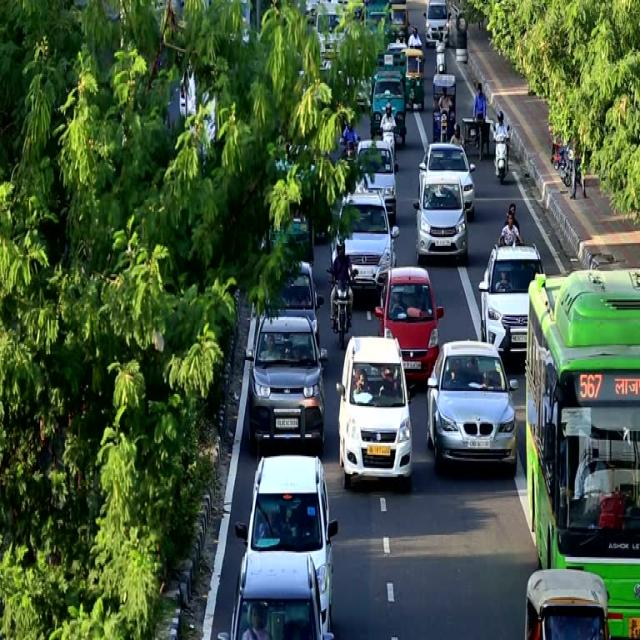Vehicles: (524, 253, 640, 640), (244, 449, 349, 640), (418, 329, 520, 492), (336, 330, 416, 507), (253, 307, 335, 462), (476, 241, 559, 370), (380, 275, 442, 402), (328, 182, 394, 300), (407, 132, 488, 218), (407, 177, 475, 269), (355, 61, 409, 147), (430, 72, 466, 164), (396, 38, 429, 117), (327, 274, 356, 341), (490, 133, 516, 189), (421, 5, 450, 54), (378, 106, 397, 178), (388, 1, 413, 36), (437, 106, 455, 152), (436, 49, 451, 92)
